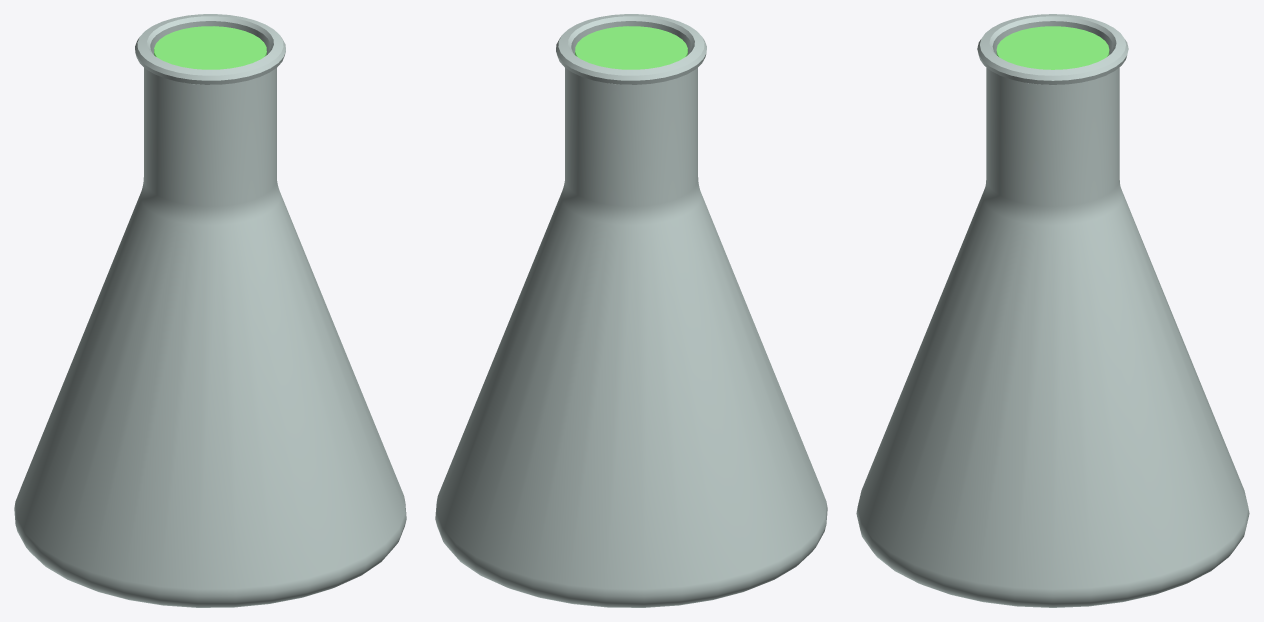
File: erlenmeyer_flask.glb
3 renders of one model, left to right at view 1: azimuth 30°, elevation 25°; view 2: azimuth 150°, elevation 25°; view 3: azimuth 270°, elevation 25°, orthographic.
Visible parts, largest first — view 1: Glass, Liquid; view 2: Glass, Liquid; view 3: Glass, Liquid.
Part boxes in pixels (x1,y1,x2,y2): Glass: (14,14,406,607); Liquid: (154,26,266,69); Glass: (435,14,827,607); Liquid: (575,26,687,69); Glass: (856,14,1249,607); Liquid: (996,26,1109,69).
Size of the model in its own units: 0.1531 by 0.21 by 0.1531.
